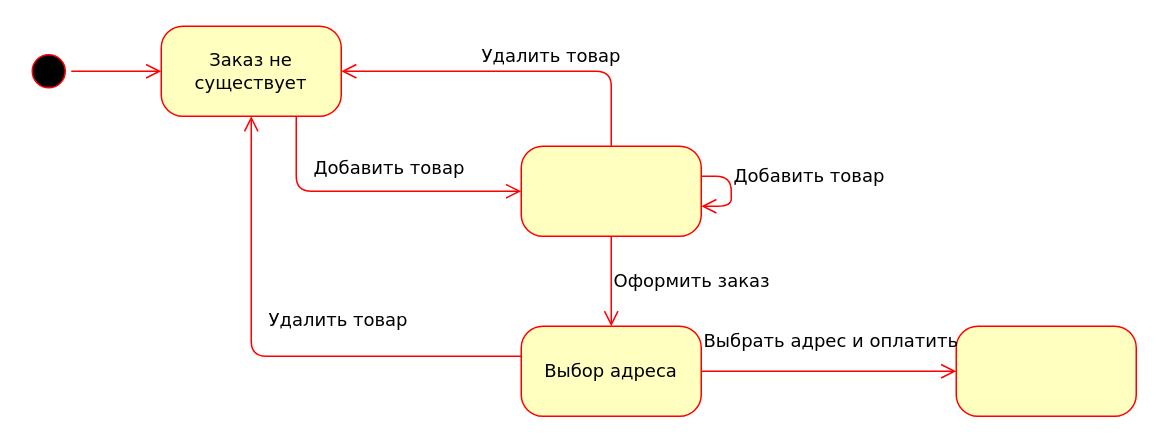
The diagram is 1163 pixels wide and 443 high, and some of its shapes have lost their labels. The shapes that lost their labels are listed below. From the top down, each one's box as (x1, y1, x2, y2) in pixels, then its label:
(520, 145, 701, 236): Товар в корзине
(955, 325, 1136, 416): Заказ оформлен
